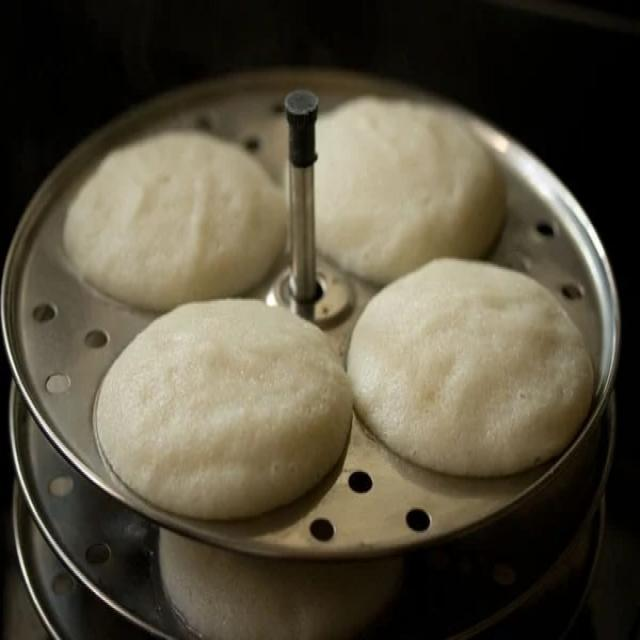Idli: (80, 70, 513, 334), (91, 302, 353, 525), (353, 255, 591, 475)
